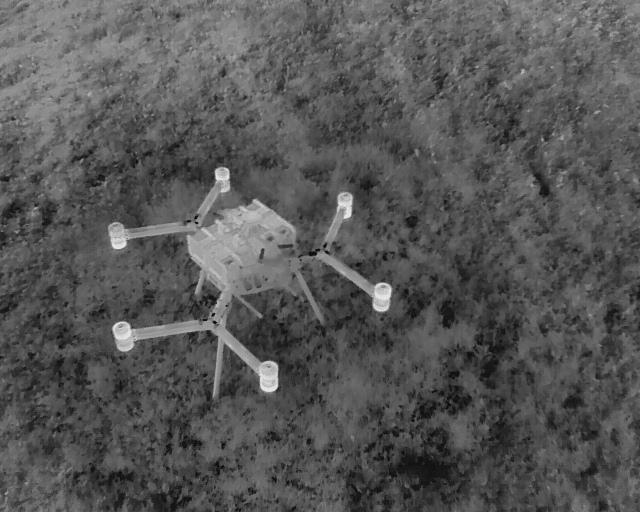drone: (96, 139, 395, 424)
